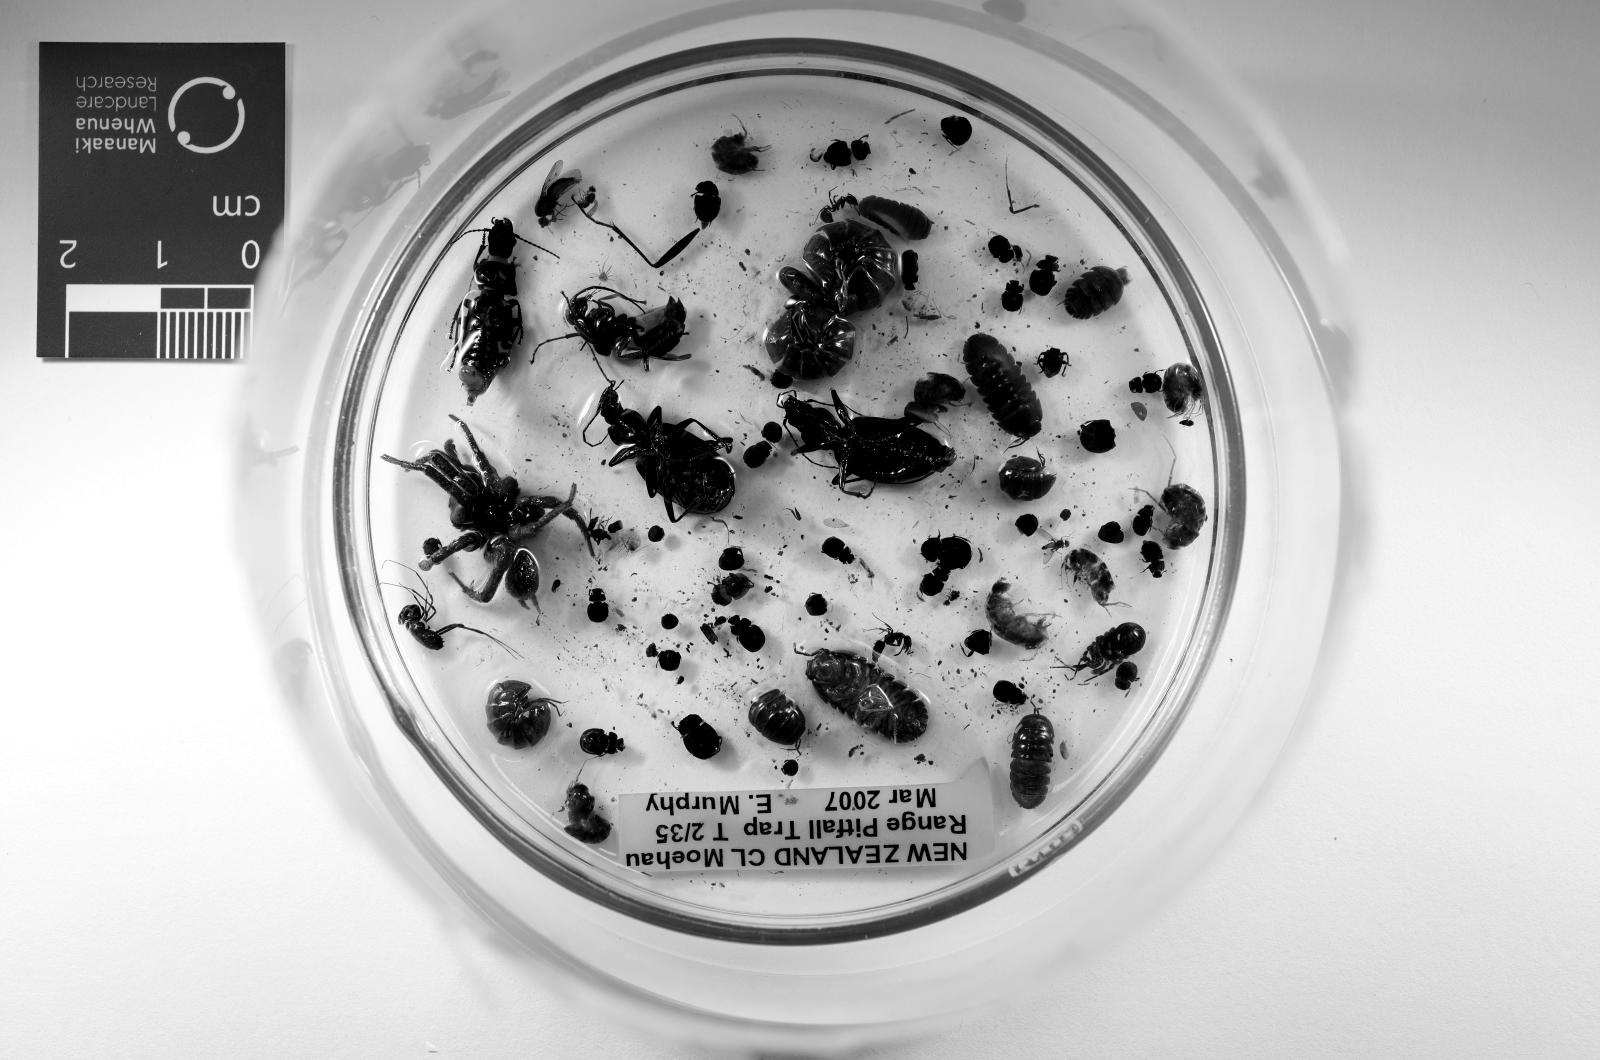amphipoda: (984, 581, 1050, 649), (1159, 485, 1206, 550), (1062, 550, 1115, 606), (713, 128, 769, 174), (1162, 363, 1203, 413)
araneae: (381, 416, 594, 606)
carabidae: (597, 386, 734, 522), (778, 392, 957, 491), (443, 218, 522, 403)
coleoptera: (675, 715, 721, 761), (922, 537, 972, 571), (822, 140, 872, 168), (713, 571, 753, 606), (728, 615, 765, 652), (694, 180, 721, 227), (1028, 254, 1060, 295), (578, 730, 626, 755), (1141, 541, 1166, 577), (822, 537, 853, 565), (900, 248, 919, 292), (1128, 373, 1166, 394), (919, 568, 947, 596), (993, 680, 1025, 705), (987, 237, 1016, 264), (744, 441, 772, 468), (588, 587, 609, 621), (1000, 279, 1022, 310), (1132, 506, 1153, 537), (1115, 661, 1138, 690), (1168, 376, 1175, 386)
diptera: (535, 161, 582, 227), (1036, 528, 1069, 568), (572, 187, 597, 211)
formicidae: (872, 627, 913, 661), (818, 193, 856, 224), (588, 516, 622, 541)
hymenoptera: (565, 286, 691, 369)
isopoda: (807, 649, 928, 742), (803, 220, 896, 317), (963, 332, 1041, 444), (765, 302, 856, 379), (485, 680, 559, 749), (1010, 711, 1054, 807), (1062, 267, 1132, 319), (750, 690, 807, 745), (1000, 457, 1056, 500)
opiliones: (397, 581, 500, 649), (1071, 625, 1147, 674)
